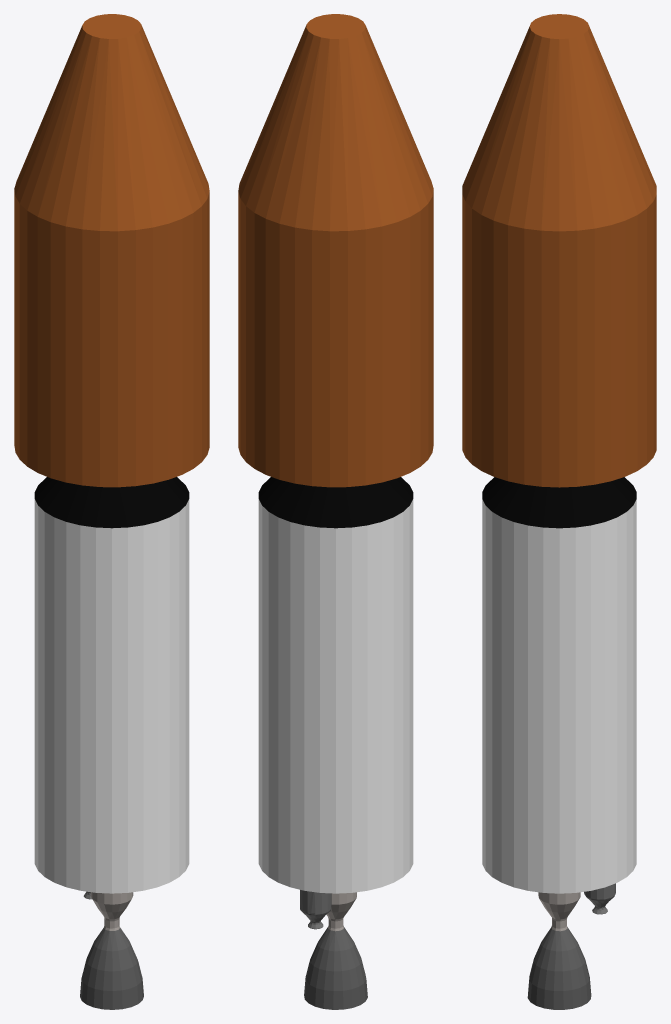
Rendered from Falcon 9 Rocket ST2 + PL.dae.
3 views of the same model, side by side, from view 1: azimuth 30°, elevation 25°; view 2: azimuth 150°, elevation 25°; view 3: azimuth 270°, elevation 25° (orthographic).
Visible parts, largest first — view 1: Payload, Rocket_Tu8, Payload_At, Rocket_Tu5, Rocket_Tu7; view 2: Payload, Rocket_Tu8, Payload_At, Rocket_Tu5, Rocket_Tu6, Rocket_Tu7; view 3: Payload, Rocket_Tu8, Payload_At, Rocket_Tu5, Rocket_Tu7, Rocket_Tu6.
Boxes of the visible parts, x1,y1,x2,y2 form: Payload: (14, 14, 209, 487); Rocket_Tu8: (34, 499, 189, 893); Payload_At: (34, 477, 189, 528); Rocket_Tu5: (80, 928, 143, 1009); Rocket_Tu7: (90, 892, 133, 930); Payload: (238, 14, 433, 487); Rocket_Tu8: (258, 499, 413, 893); Payload_At: (258, 477, 413, 528); Rocket_Tu5: (304, 927, 367, 1009); Rocket_Tu6: (300, 890, 331, 929); Rocket_Tu7: (326, 892, 356, 931); Payload: (462, 14, 656, 487); Rocket_Tu8: (482, 499, 636, 893); Payload_At: (482, 477, 636, 528); Rocket_Tu5: (527, 927, 591, 1009); Rocket_Tu7: (538, 892, 580, 931); Rocket_Tu6: (584, 883, 615, 914).
Size of the model in its own units: 180 by 179 by 985.
